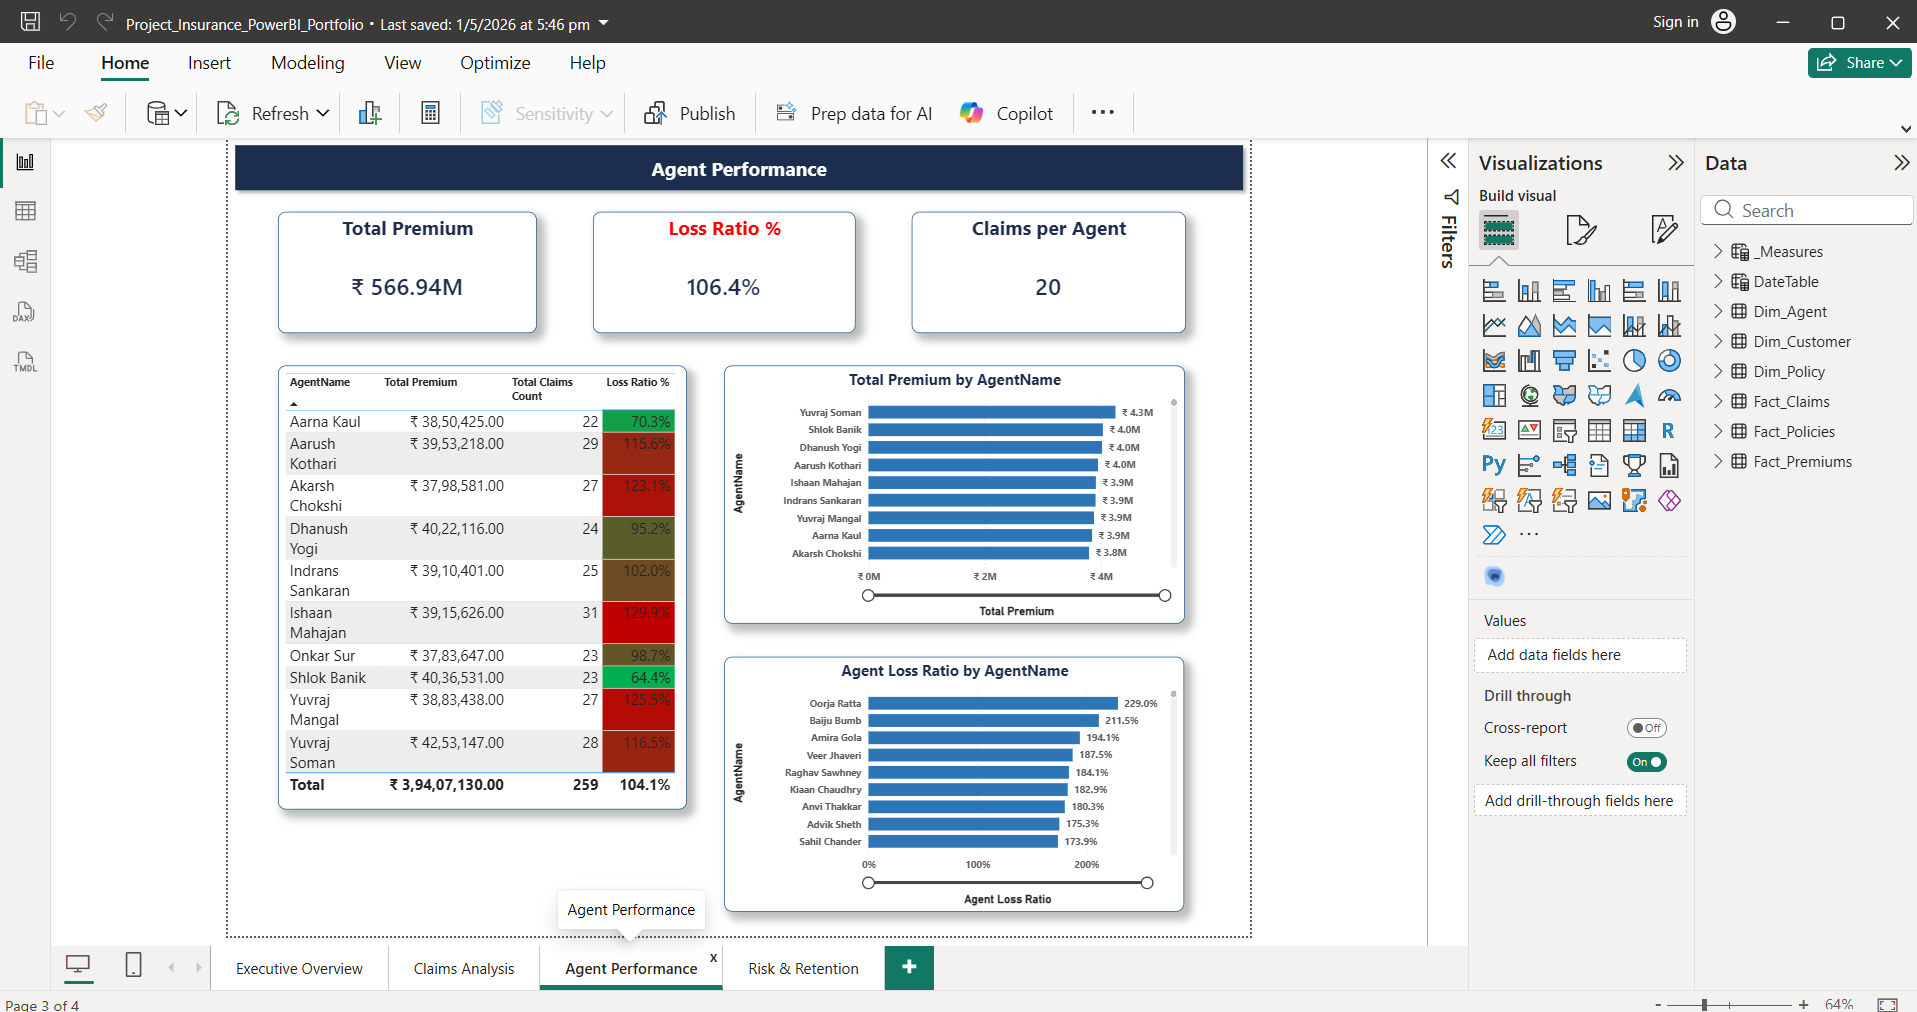

Layout of this report page (visuals, bound fields, positions):
{"tool":"powerbi","page":{"name":"Agent Performance","canvas":[1280,1000],"ordinal":2},"visuals":[{"type":"shape","box":[0,0,1280.2,74.4],"z":0},{"type":"cardVisual","title":"Total Premium","fields":{"Data":["_Measures.Total Premium"]},"box":[62.6,92.4,324,151.8],"z":1000},{"type":"cardVisual","title":"Claims per Agent","fields":{"Data":["_Measures.Claims per Agent"]},"box":[856.3,92.4,342.8,151.8],"z":2000},{"type":"cardVisual","title":"Loss Ratio %","fields":{"Data":["_Measures.Loss Ratio %"]},"box":[457.1,92.4,328.7,151.8],"z":3000},{"type":"clusteredBarChart","fields":{"Category":["Dim_Agent.AgentName"],"Y":["_Measures.Total Premium"]},"box":[622.1,285.3,576.5,323.5],"z":4000},{"type":"tableEx","fields":{"Values":["Dim_Agent.AgentName","_Measures.Total Premium","_Measures.Total Claims Count","_Measures.Loss Ratio %"]},"box":[62.6,284.9,511.9,555.7],"z":5000},{"type":"clusteredBarChart","fields":{"Category":["Dim_Agent.AgentName"],"Y":["_Measures.Agent Loss Ratio"]},"box":[621.5,649.7,576.1,319.4],"z":6000}]}

Visuals, with their boxes on the page's 1280x1000 design canvas (x1, y1, x2, y2). These are canvas units, not pixel positions in the 1917x1012 screenshot, which may show the page scaled, cropped or inside an application window:
shape: [0,0,1280,74]
"Total Premium" cardVisual: [63,92,387,244]
"Claims per Agent" cardVisual: [856,92,1199,244]
"Loss Ratio %" cardVisual: [457,92,786,244]
clusteredBarChart - Dim_Agent.AgentName x _Measures.Total Premium: [622,285,1199,609]
tableEx - Dim_Agent.AgentName x _Measures.Total Premium: [63,285,574,841]
clusteredBarChart - Dim_Agent.AgentName x _Measures.Agent Loss Ratio: [622,650,1198,969]
